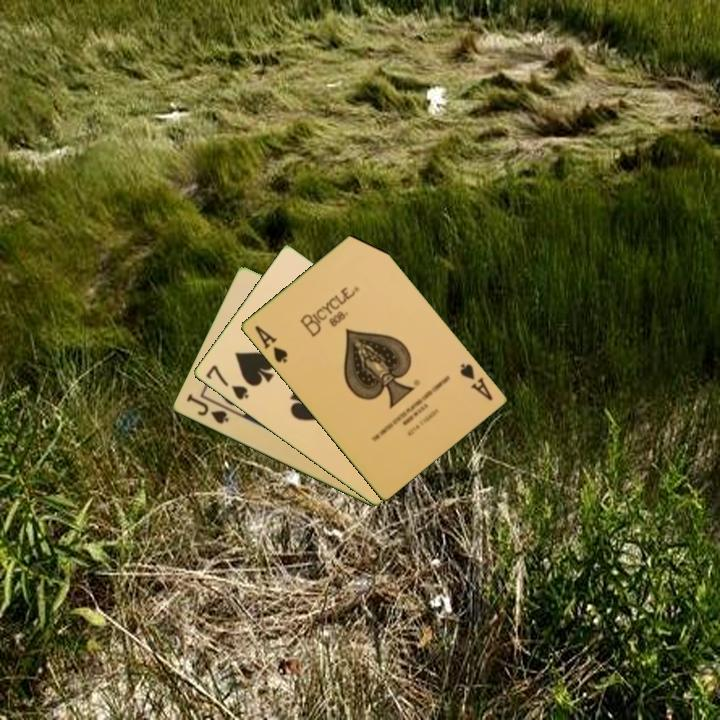7s: (202, 362, 251, 403)
As: (251, 322, 290, 366), (456, 360, 495, 404)
Js: (182, 390, 232, 427)
